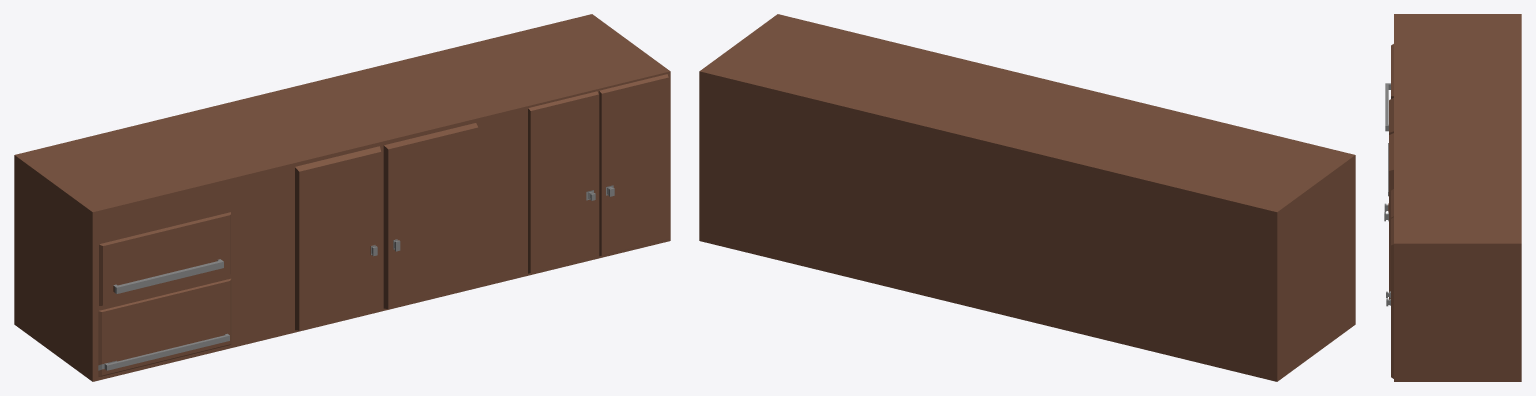
The model's file is Armario2.fbx.
The picture shows the model from 3 angles, left to right: view 1: azimuth 30°, elevation 25°; view 2: azimuth 150°, elevation 25°; view 3: azimuth 270°, elevation 25°; orthographic projection. The views are drawn at different scales.
Visible parts, largest first — view 1: Cube.123; view 2: Cube.123; view 3: Cube.123.
Part boxes in pixels (x1,y1,x2,y2): Cube.123: [14, 14, 670, 381]; Cube.123: [699, 14, 1355, 381]; Cube.123: [1384, 14, 1521, 381].
Size of the model in its own units: 383 by 108 by 96.89.
